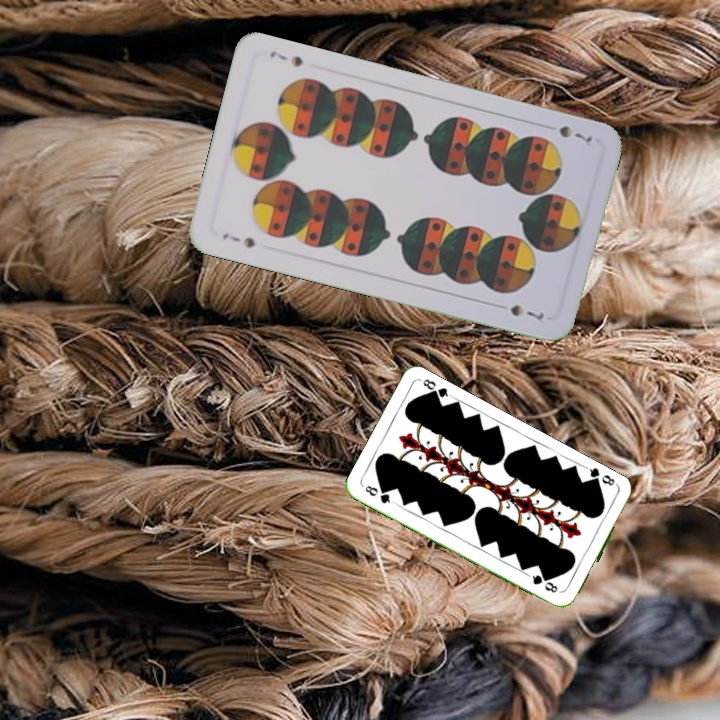G8: (583, 464, 621, 489), (361, 481, 397, 506)
S7: (555, 121, 595, 149), (218, 229, 258, 251)
